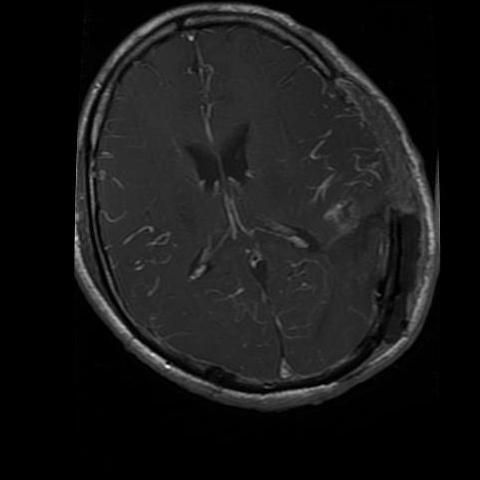Tumour-Glioma: (305, 116, 415, 239)
